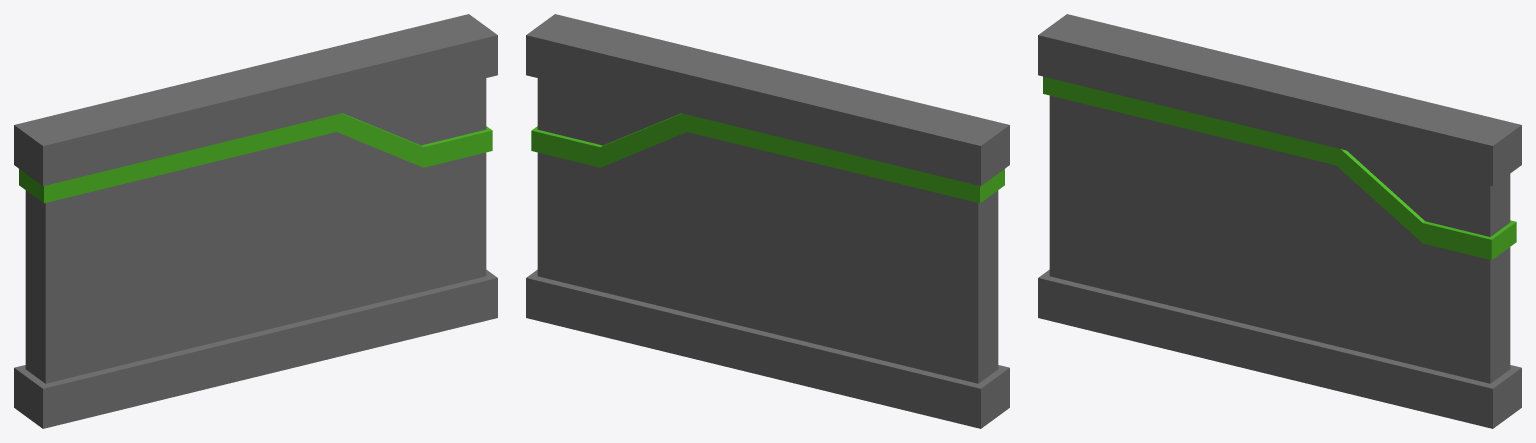
The model's file is greenkeycard.fbx.
3 views of the same model, side by side, from view 1: azimuth 30°, elevation 25°; view 2: azimuth 150°, elevation 25°; view 3: azimuth 330°, elevation 25° (orthographic).
Visible parts, largest first — view 1: keycardred2; view 2: keycardred2; view 3: keycardred2.
Boxes of the visible parts, box(x1,y1,x2,y2) form: keycardred2: box(14, 14, 497, 428); keycardred2: box(526, 14, 1009, 428); keycardred2: box(1038, 14, 1521, 428).
Size of the model in its own units: 0.2247 by 0.1335 by 0.0248.
